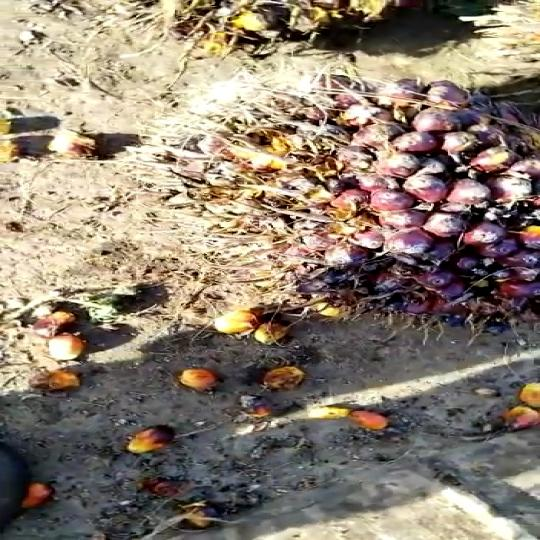masak: (173, 61, 540, 348)
